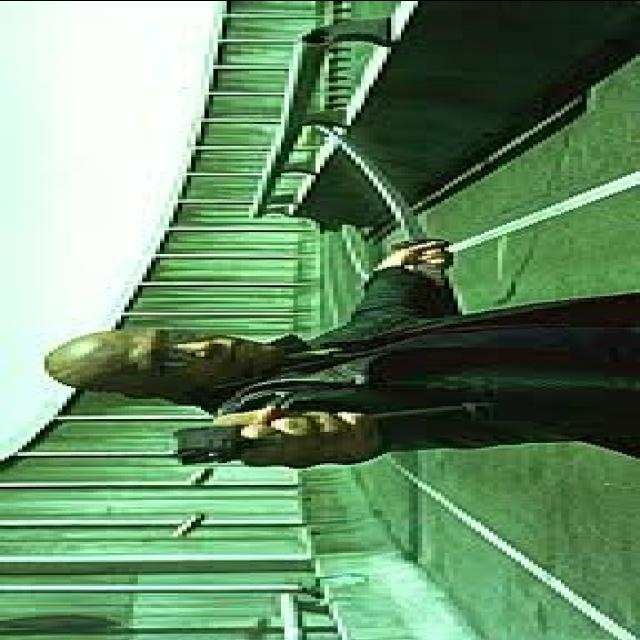weapons: (111, 376, 527, 495)
